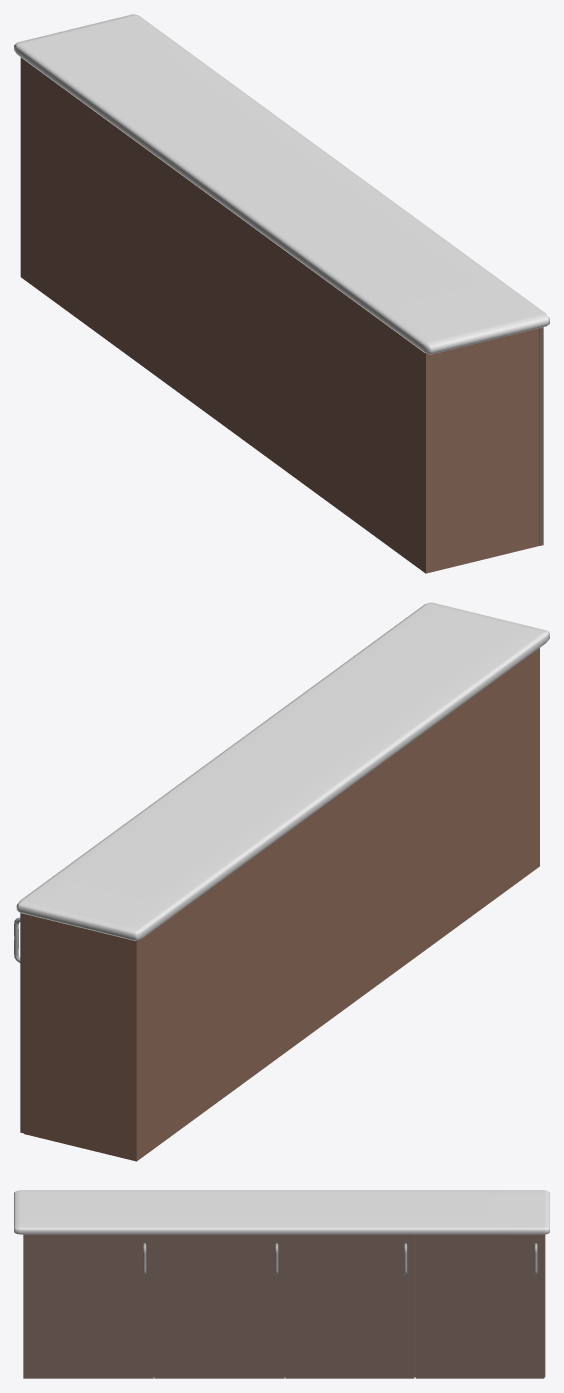
Rendered from Updated-Bottom-Cabinets.fbx.
The picture shows the model from 3 angles, top to bottom: view 1: azimuth 30°, elevation 25°; view 2: azimuth 150°, elevation 25°; view 3: azimuth 270°, elevation 25°; orthographic projection. The views are drawn at different scales.
Visible parts, largest first — view 1: pCube93 (×4), pCube101, pCube97; view 2: pCube93 (×4), pCube101, pCube97; view 3: pCube97 (×4), pCube101, pCube93 (×2).
Boxes of the visible parts, <box> form: pCube93 (×4): <box>20,57,538,573</box>; pCube101: <box>14,14,549,354</box>; pCube97: <box>539,327,543,545</box>; pCube93 (×4): <box>24,648,539,1161</box>; pCube101: <box>16,602,549,940</box>; pCube97: <box>20,913,23,1133</box>; pCube97 (×4): <box>23,1234,544,1378</box>; pCube101: <box>14,1190,549,1234</box>; pCube93 (×2): <box>284,1234,545,1377</box>.
Bounding box in the file's own units: 1.2 × 1.97 × 6.37.
